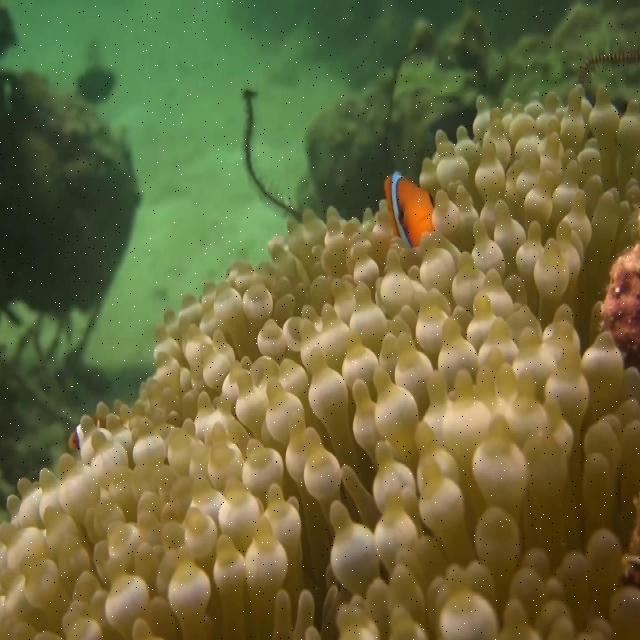fish: (383, 170, 432, 248)
reefs: (0, 83, 639, 639), (0, 66, 145, 366), (601, 244, 639, 356)
